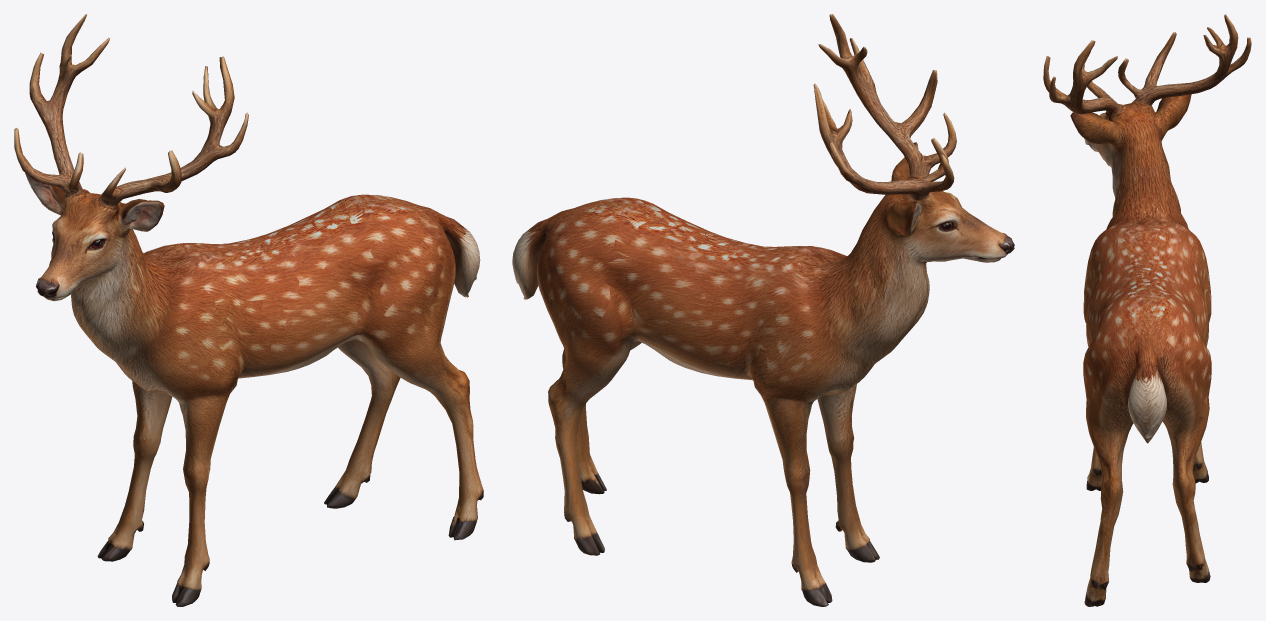
File: huouduc_10k.glb
The picture shows the model from 3 angles, left to right: view 1: azimuth 30°, elevation 25°; view 2: azimuth 150°, elevation 25°; view 3: azimuth 270°, elevation 25°; orthographic projection. The views are drawn at different scales.
Visible parts, largest first — view 1: tripo_node_edd2e83a-18c4-418c-b1a4-28cd1e4b7ec6; view 2: tripo_node_edd2e83a-18c4-418c-b1a4-28cd1e4b7ec6; view 3: tripo_node_edd2e83a-18c4-418c-b1a4-28cd1e4b7ec6.
Part boxes in pixels (x1,y1,x2,y2): tripo_node_edd2e83a-18c4-418c-b1a4-28cd1e4b7ec6: [14, 14, 483, 606]; tripo_node_edd2e83a-18c4-418c-b1a4-28cd1e4b7ec6: [512, 14, 1014, 606]; tripo_node_edd2e83a-18c4-418c-b1a4-28cd1e4b7ec6: [1043, 14, 1251, 606].
Bounding box in the file's own units: 0.8912 × 0.9802 × 0.3967.
1 material, 1 textured.
